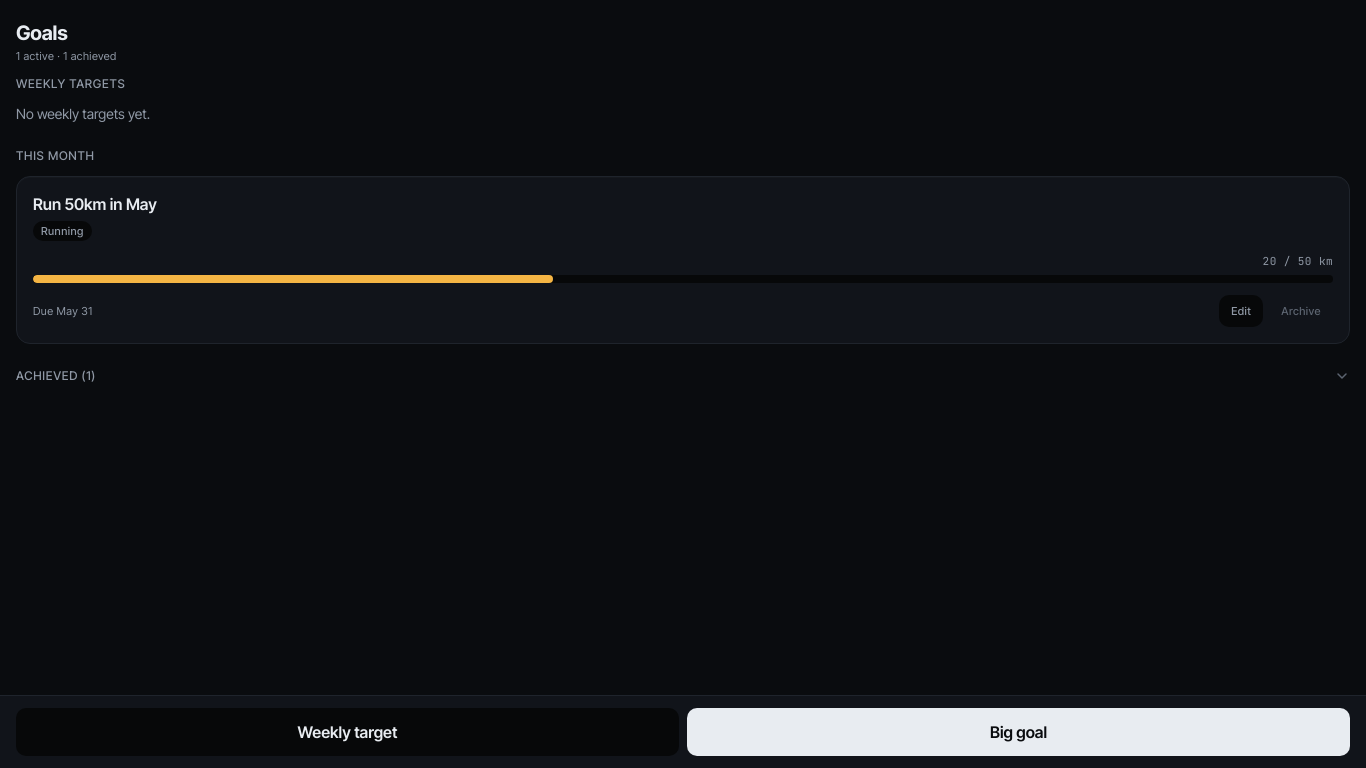
Scenario: GoalsScreen — Achieved section › clicking the Achieved toggle again collapses the section
The image size is (1366, 768).
Step 1. Click the button "Achieved (1)" → (51, 376), box [16, 368, 1350, 384]
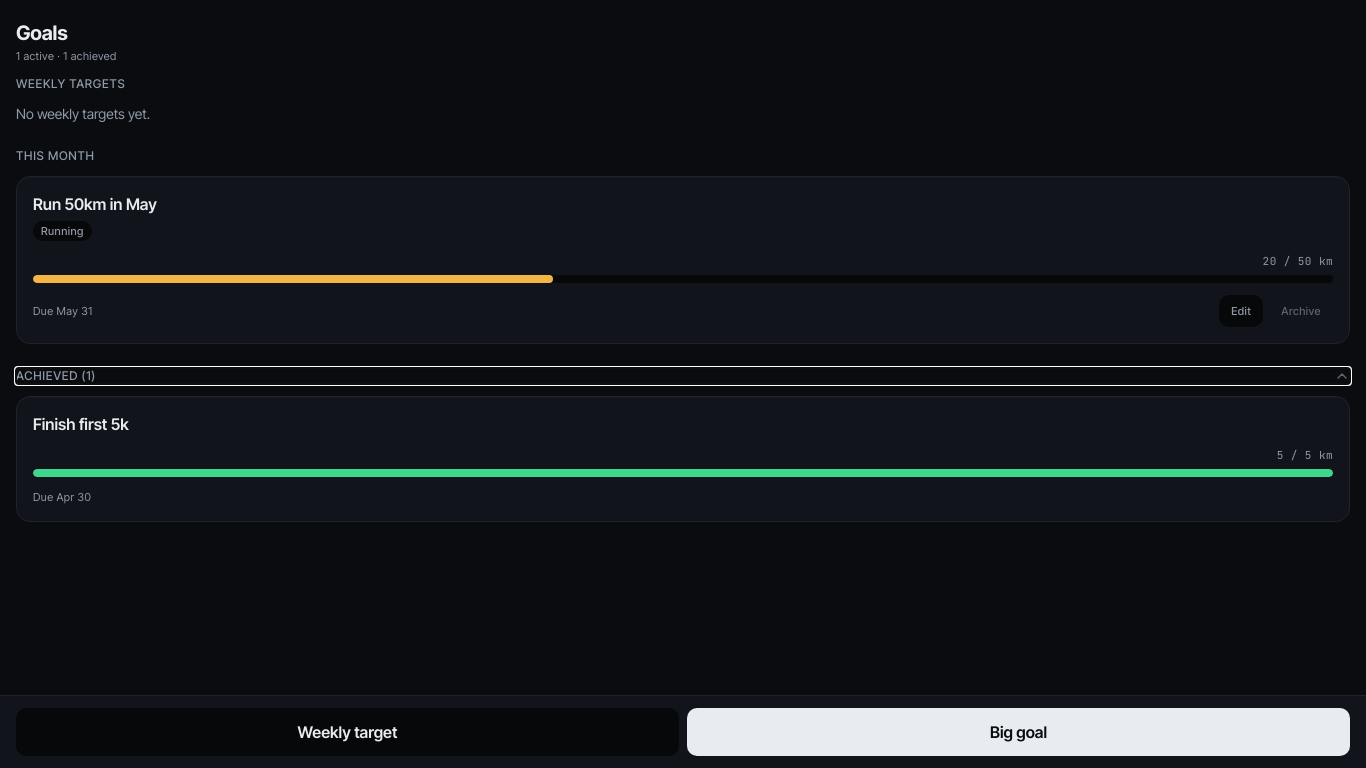
Now the text "Finish first 5k" is shown, box [33, 414, 129, 434]
Step 2. Click the button "Achieved (1)" → (51, 376), box [16, 368, 1350, 384]
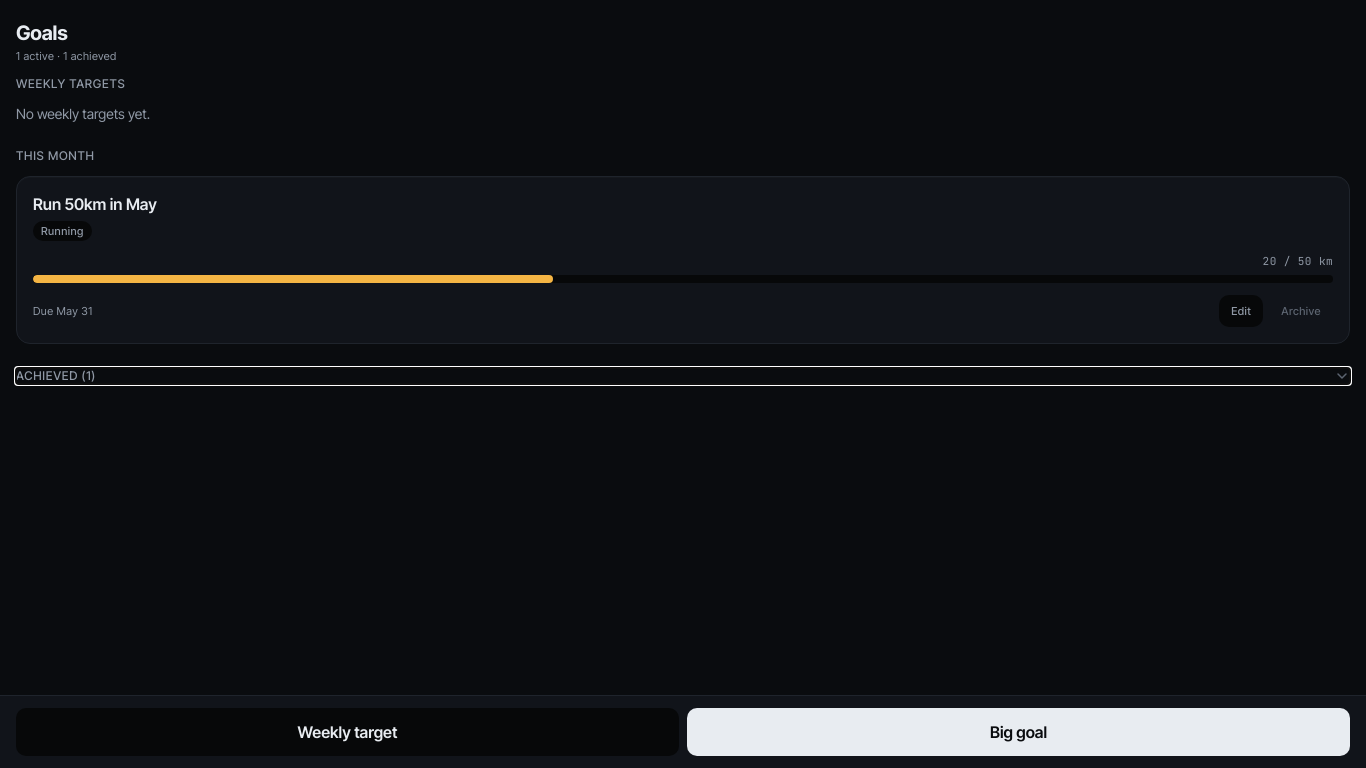
Now the text "Finish first 5k" is gone
